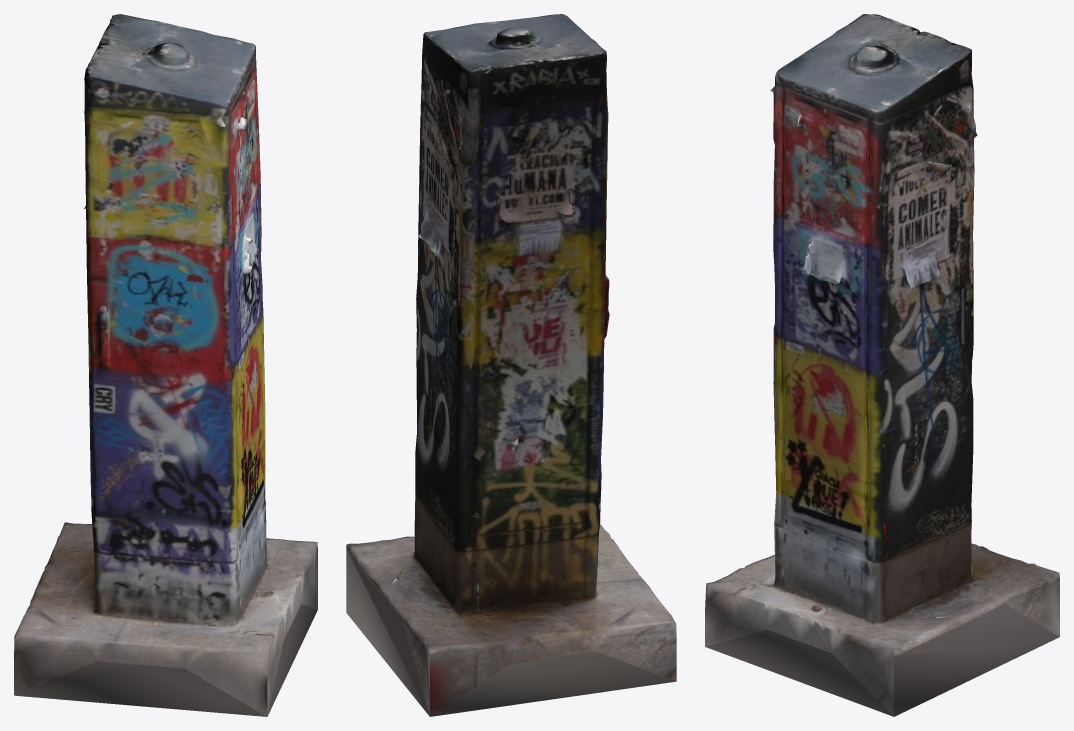
File: armari.glb
3 renders of one model, left to right at view 1: azimuth 30°, elevation 25°; view 2: azimuth 150°, elevation 25°; view 3: azimuth 270°, elevation 25°, orthographic. The views are drawn at different scales.
Size of the model in its own units: 1.17 by 2.15 by 1.17.
Materials: 1 (1 with a texture image).
